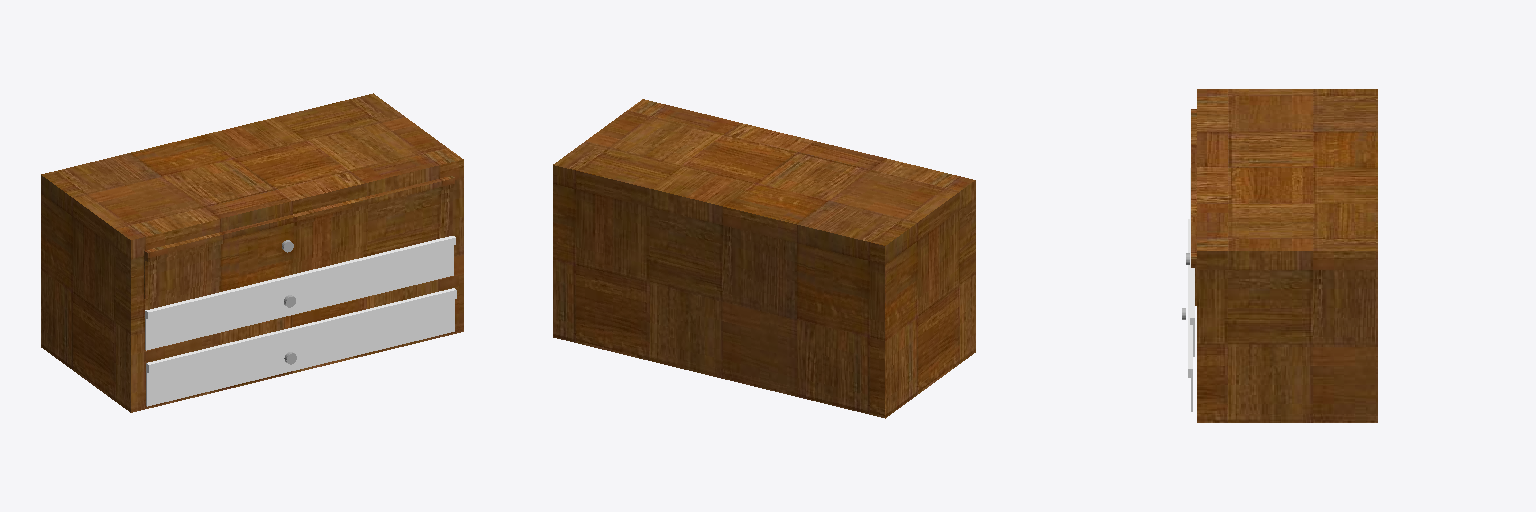
3 renders of one model, left to right at view 1: azimuth 30°, elevation 25°; view 2: azimuth 150°, elevation 25°; view 3: azimuth 270°, elevation 25°, orthographic.
Visible parts, largest first — view 1: Mesh1 Component_12_1 Model, Mesh4 Component_12_1 Model, Mesh2 Component_12_1 Model; view 2: Mesh1 Component_12_1 Model; view 3: Mesh1 Component_12_1 Model.
Part boxes in pixels (x1,y1,x2,y2): Mesh1 Component_12_1 Model: (41,93,463,412); Mesh4 Component_12_1 Model: (146,288,456,406); Mesh2 Component_12_1 Model: (145,236,455,350); Mesh1 Component_12_1 Model: (553,99,975,418); Mesh1 Component_12_1 Model: (1191,89,1377,422).
Size of the model in its own units: 0.6904 by 0.3421 by 0.3511.
3 materials, 1 textured.